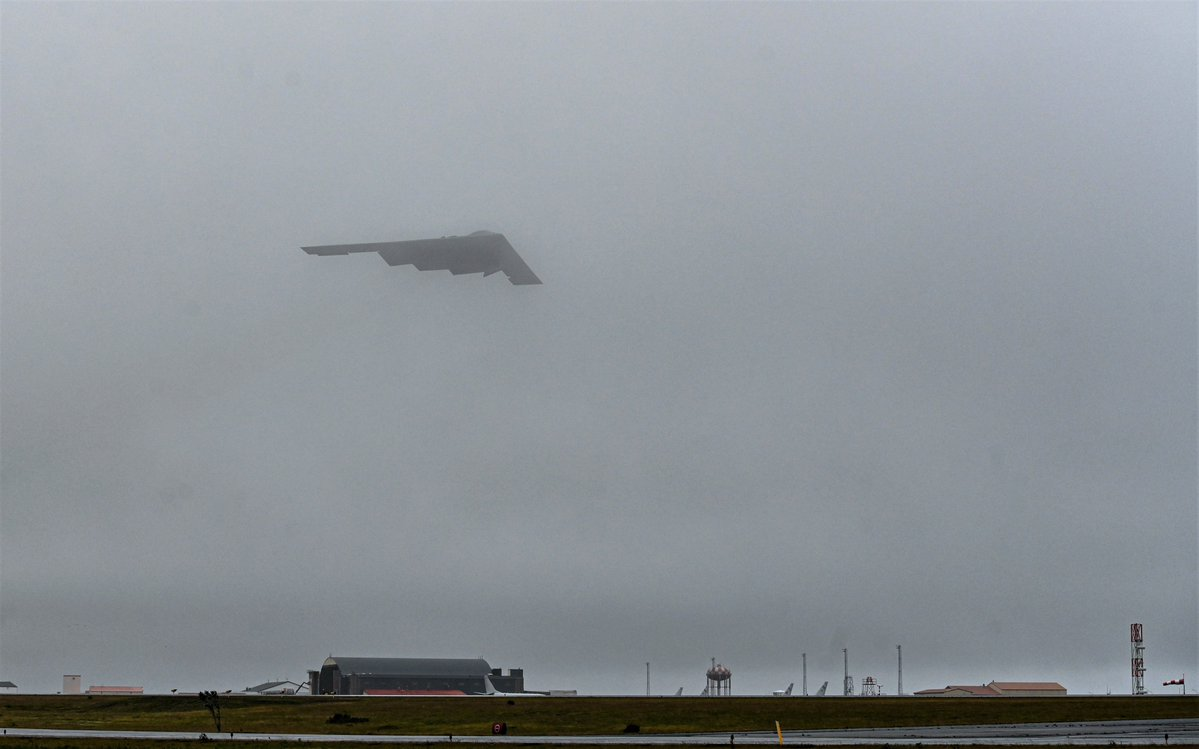B2: (299, 229, 544, 286)
